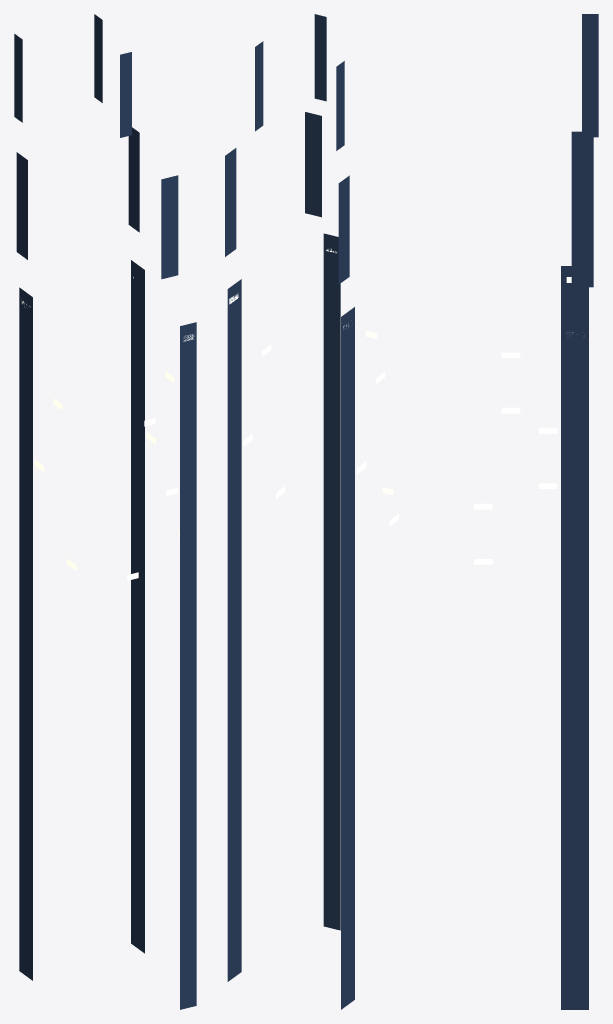
Rendered from SM_MM_W05_Facade.fbx.
The picture shows the model from 3 angles, left to right: view 1: azimuth 30°, elevation 25°; view 2: azimuth 150°, elevation 25°; view 3: azimuth 270°, elevation 25°; orthographic projection.
Parts seen in each view (by area): view 1: SM_MM_W05_Facade; view 2: SM_MM_W05_Facade; view 3: SM_MM_W05_Facade.
Boxes of the visible parts, box(x1,y1,x2,y2) form: SM_MM_W05_Facade: box(14, 14, 196, 1009); SM_MM_W05_Facade: box(225, 14, 398, 1009); SM_MM_W05_Facade: box(474, 14, 598, 1009).
Size of the model in its own units: 14.05 by 18.47 by 112.
